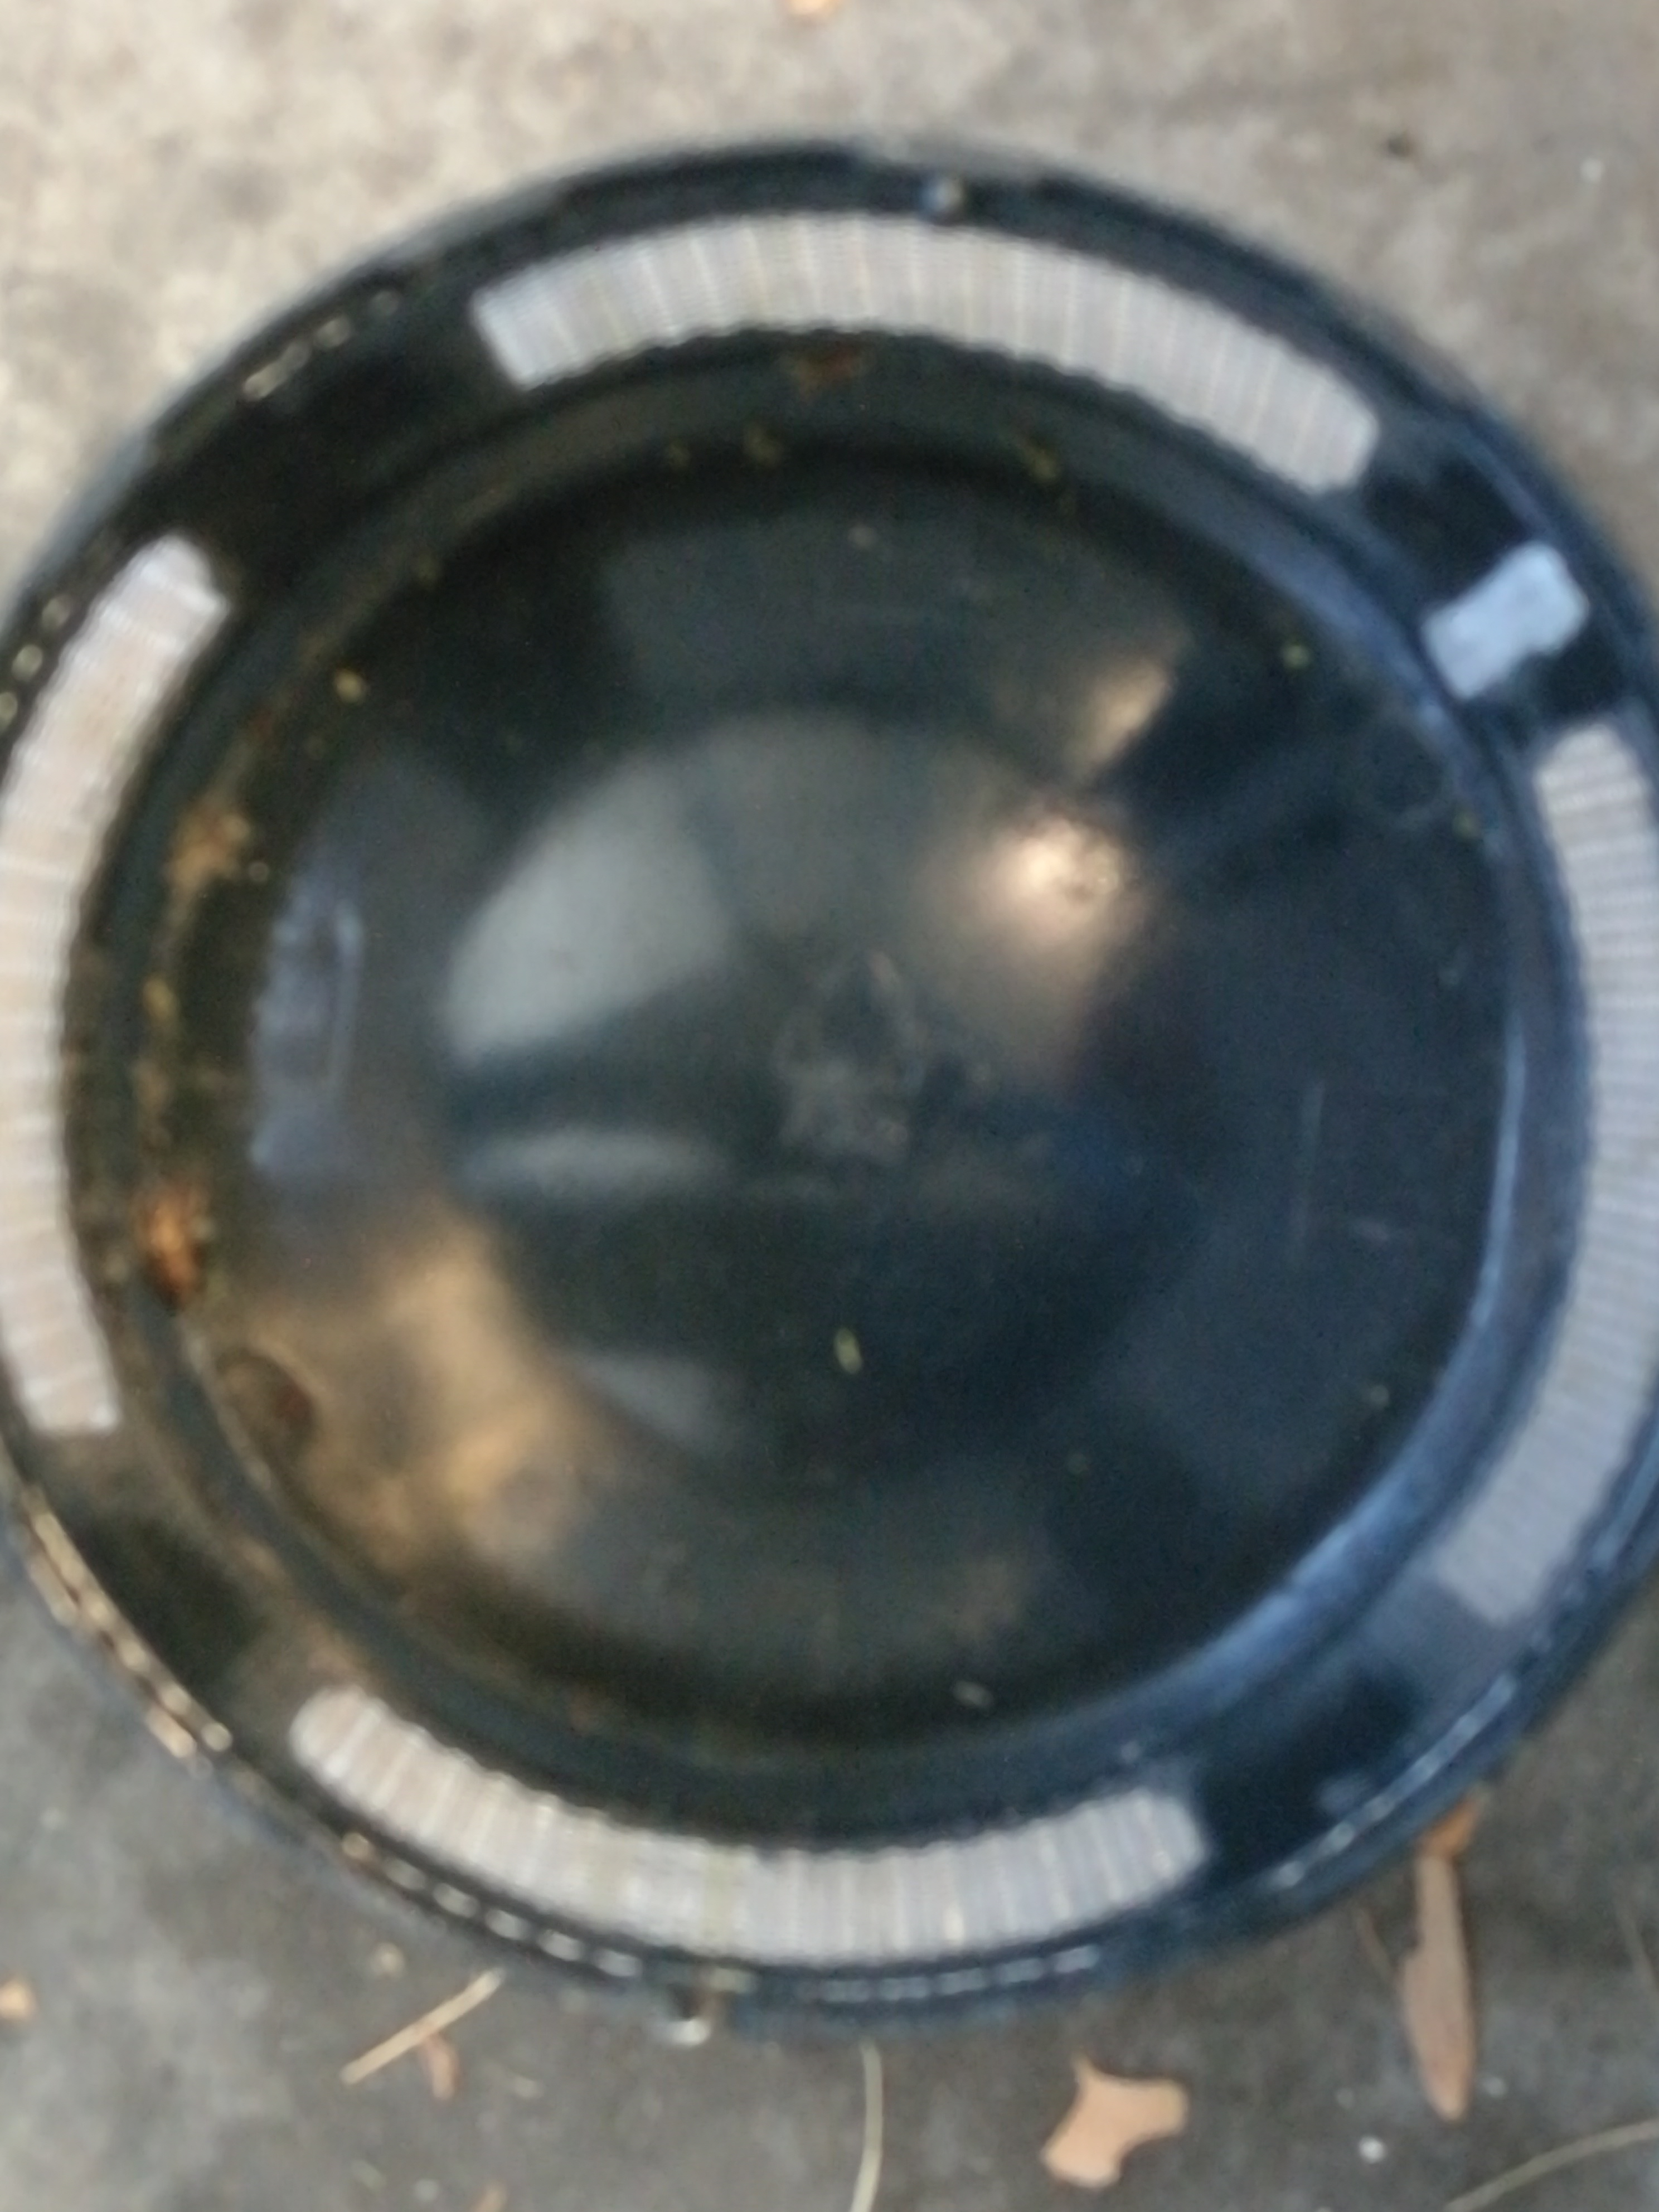beetle: (139, 1176, 195, 1306)
moth: (166, 794, 249, 914)
